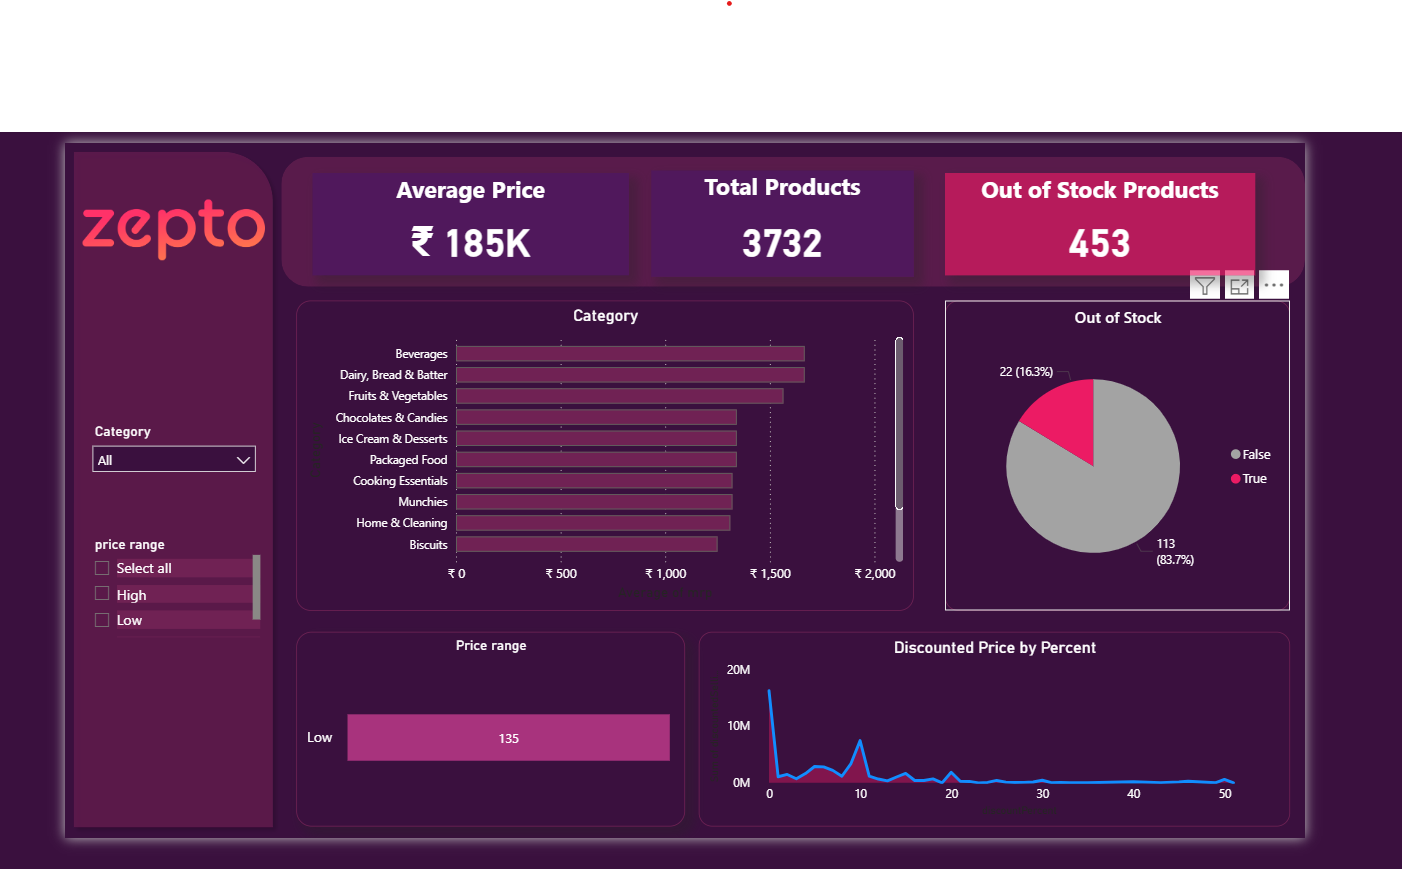

The dashboard page shown, as its layout file describes it:
{"tool":"powerbi","page":{"name":"Page 1","canvas":[1288,723],"ordinal":0},"visuals":[{"type":"shape","box":[224.7,14.3,1063.6,135.1],"z":0},{"type":"shape","box":[0,0,225,720],"z":1000},{"type":"barChart","title":"      Category","fields":{"Y":["Avg(zepto.mrp)"],"Category":["zepto.Category"]},"box":[240.3,163.6,641.6,322.1],"z":2000},{"type":"pieChart","title":" Out of Stock","fields":{"Category":["zepto.outOfStock"],"Y":["CountNonNull(zepto.outOfStock)"]},"box":[914.3,163.6,358.4,322.1],"z":3000},{"type":"funnel","title":"Price range","fields":{"Category":["zepto.price_range"],"Y":["CountNonNull(zepto.price_range)"]},"box":[240.3,507.8,403.9,202.6],"z":4000},{"type":"card","title":"Total Products","fields":{"Values":["CountNonNull(zepto.name)"]},"box":[609.1,28.6,272.7,110.4],"z":5000},{"type":"card","title":"Average Price","fields":{"Values":["Sum(zepto.mrp)"]},"box":[257.1,31.2,328.6,106.5],"z":6000},{"type":"card","title":"Out of Stock Products","fields":{"Values":["CountNonNull(zepto.outOfStock)"]},"box":[914.3,31.2,322.1,106.5],"z":7000},{"type":"slicer","fields":{"Values":["zepto.Category"]},"box":[18.2,285.7,189.6,76.6],"z":8000},{"type":"slicer","fields":{"Values":["zepto.price_range"]},"box":[18.2,403.9,189.6,114.3],"z":9000},{"type":"image","box":[18.2,50.6,189.6,79.2],"z":10000},{"type":"lineChart","title":"Discounted Price by Percent","fields":{"Category":["zepto.discountPercent"],"Y":["Sum(zepto.discountedSellingPrice)"]},"box":[658.4,507.8,614.3,202.6],"z":11000}]}

Visuals, with their boxes on the page's 1288x723 design canvas (x1, y1, x2, y2). These are canvas units, not pixel positions in the 1402x869 screenshot, which may show the page scaled, cropped or inside an application window:
shape: (225,14,1288,149)
shape: (0,0,225,720)
"      Category" barChart: (240,164,882,486)
" Out of Stock" pieChart: (914,164,1273,486)
"Price range" funnel: (240,508,644,710)
"Total Products" card: (609,29,882,139)
"Average Price" card: (257,31,586,138)
"Out of Stock Products" card: (914,31,1236,138)
slicer - zepto.Category: (18,286,208,362)
slicer - zepto.price_range: (18,404,208,518)
image: (18,51,208,130)
"Discounted Price by Percent" lineChart: (658,508,1273,710)
